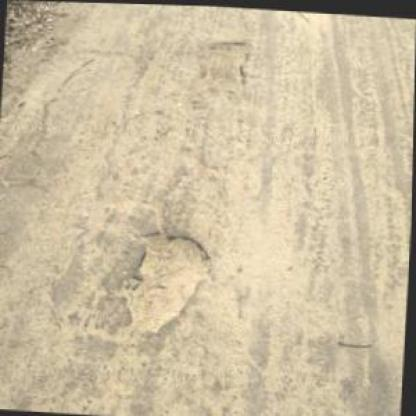pothole: (118, 222, 216, 338), (195, 36, 252, 94)
